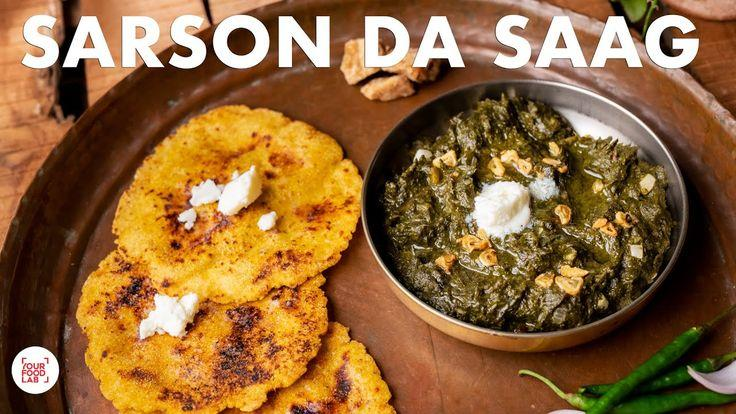saag: (379, 99, 677, 330)
